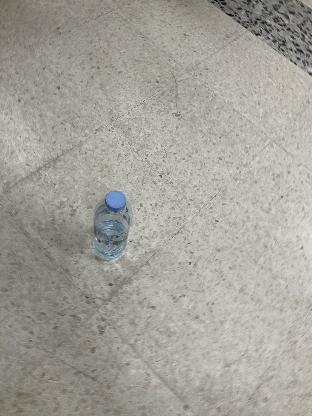Plastic Bottle: (91, 190, 131, 262)
